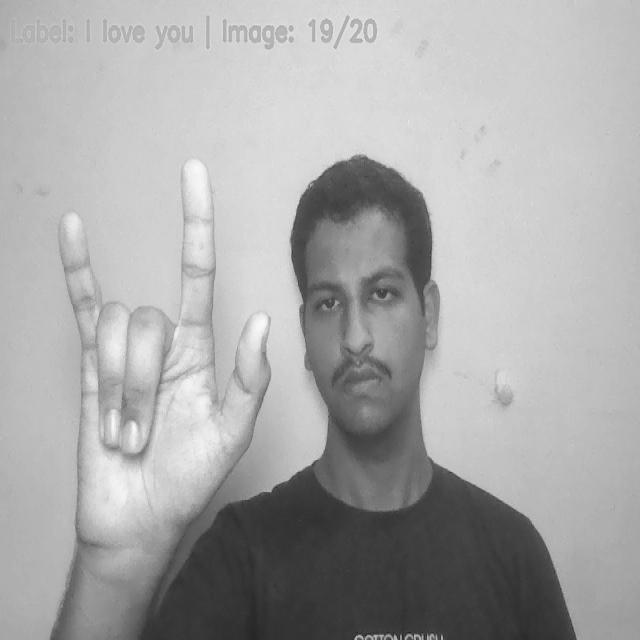I love you: (62, 153, 266, 542)
